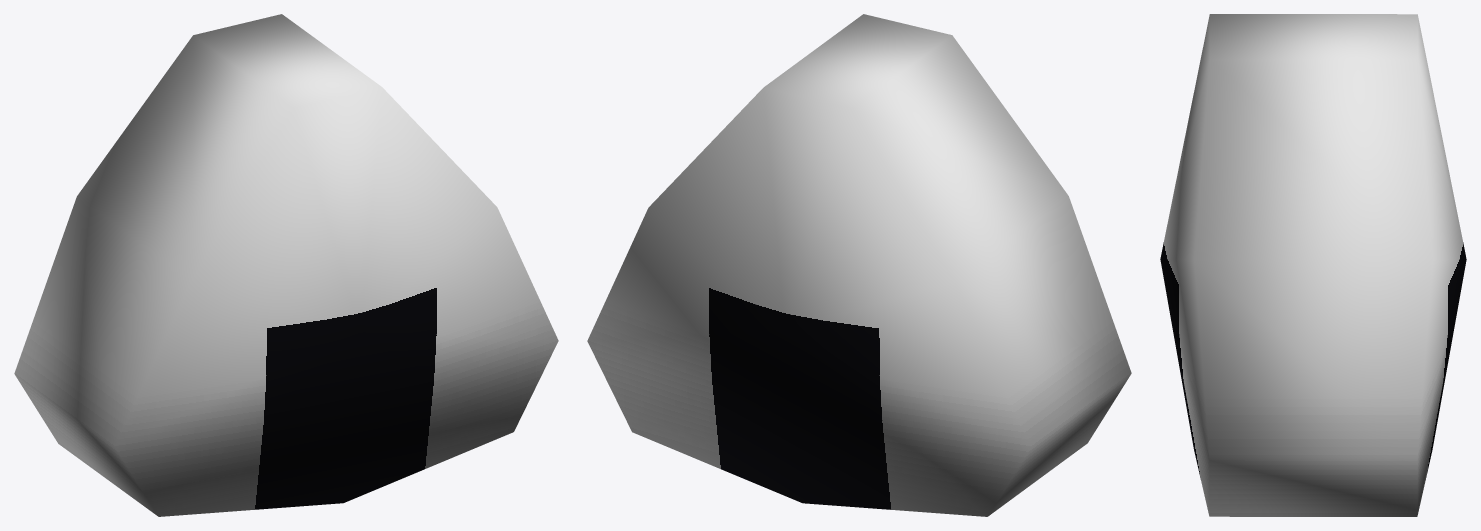
File: rice_ball.fbx
3 renders of one model, left to right at view 1: azimuth 30°, elevation 25°; view 2: azimuth 150°, elevation 25°; view 3: azimuth 270°, elevation 25°, orthographic. The views are drawn at different scales.
Visible parts, largest first — view 1: rice_ball; view 2: rice_ball; view 3: rice_ball.
Boxes of the visible parts, x1,y1,x2,y2 form: rice_ball: (14, 14, 558, 516); rice_ball: (587, 14, 1131, 516); rice_ball: (1160, 14, 1466, 516).
Size of the model in its own units: 19.33 by 16.62 by 11.13.
